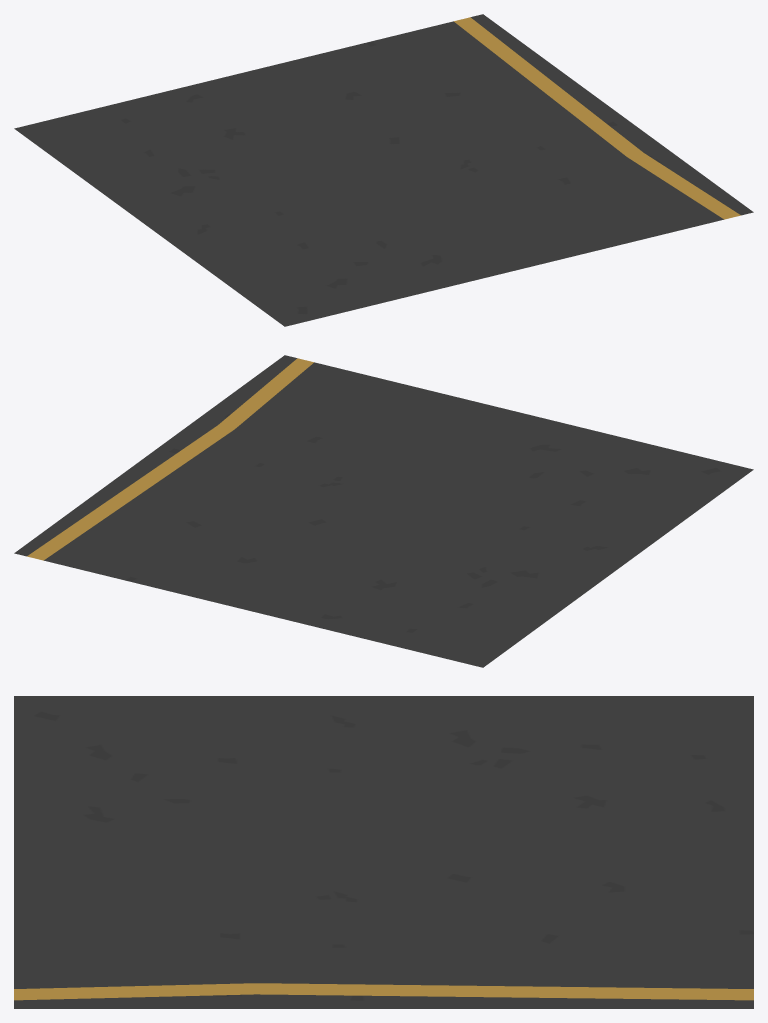
The model's file is SM_Env_Road_YellowLines_01.glb.
The picture shows the model from 3 angles, top to bottom: view 1: azimuth 30°, elevation 25°; view 2: azimuth 150°, elevation 25°; view 3: azimuth 270°, elevation 25°; orthographic projection. The views are drawn at different scales.
Visible parts, largest first — view 1: SM_Env_Road_YellowLines_01; view 2: SM_Env_Road_YellowLines_01; view 3: SM_Env_Road_YellowLines_01.
Boxes of the visible parts, x1,y1,x2,y2 form: SM_Env_Road_YellowLines_01: (14, 14, 753, 326); SM_Env_Road_YellowLines_01: (14, 355, 753, 667); SM_Env_Road_YellowLines_01: (14, 696, 753, 1008).
Size of the model in its own units: 5 by 0 by 5.
Materials: 1 (1 with a texture image).
